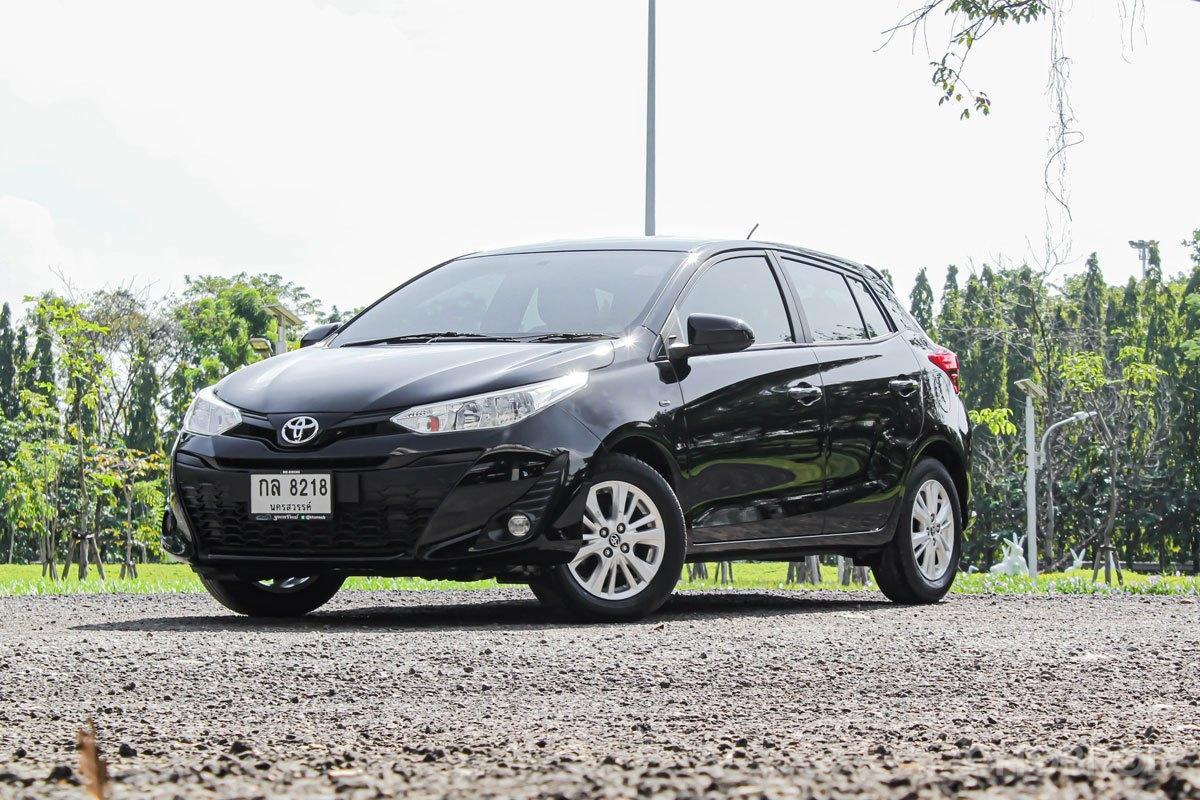license-plate: (238, 460, 348, 530)
